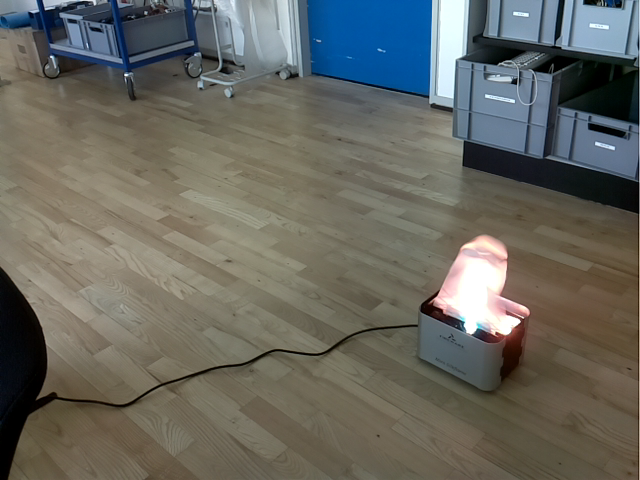fire: (433, 234, 510, 336)
